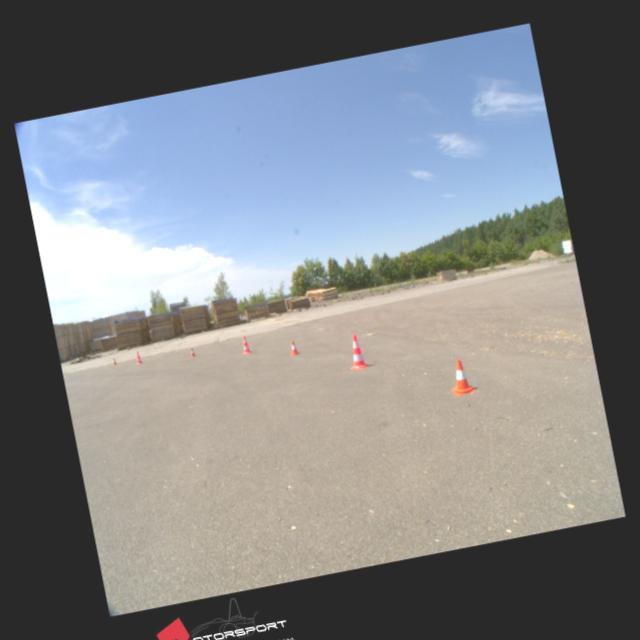large_orange_cone: (344, 334, 368, 372), (240, 335, 252, 354), (134, 351, 143, 364)
orange_cone: (446, 358, 474, 396), (288, 339, 299, 355), (189, 348, 196, 358), (111, 357, 118, 365)
